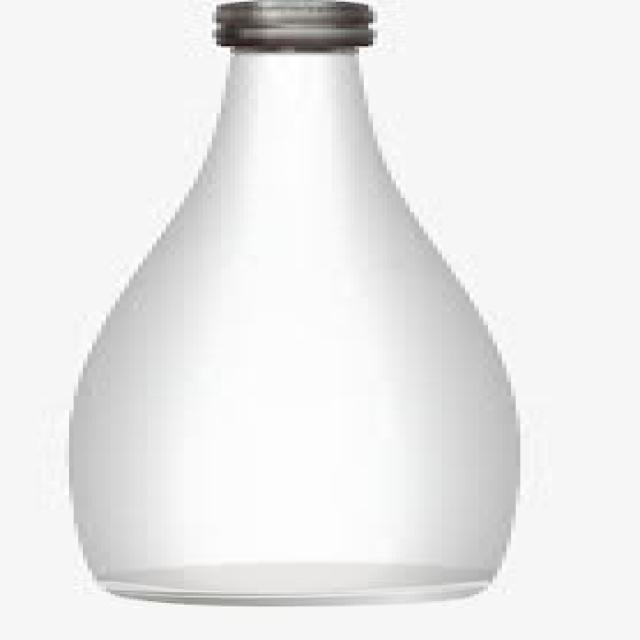glass: (65, 42, 516, 603)
metal: (207, 0, 373, 50)
